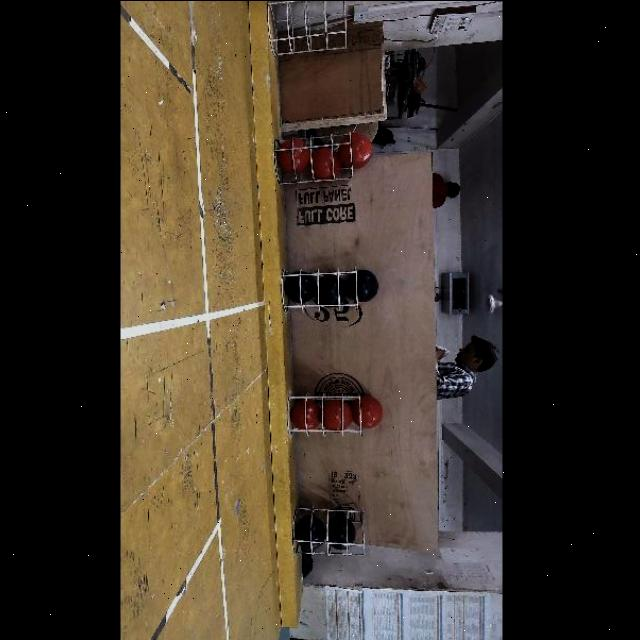P: (294, 515, 326, 551), (347, 269, 379, 301), (315, 273, 347, 305), (283, 270, 315, 302), (327, 513, 355, 549)
R: (338, 131, 372, 168), (277, 137, 310, 172), (352, 394, 383, 427), (309, 147, 340, 179), (290, 398, 321, 428), (323, 399, 352, 428)
S: (268, 0, 352, 58), (284, 504, 368, 556), (286, 383, 364, 439), (274, 132, 360, 182), (278, 266, 362, 316)
